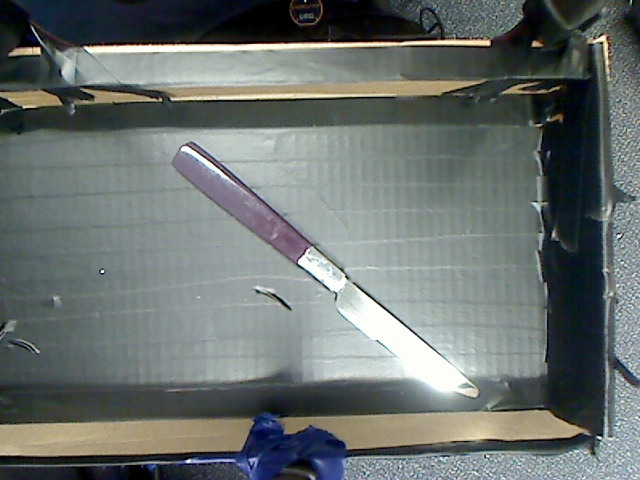knife: (157, 127, 497, 406)
